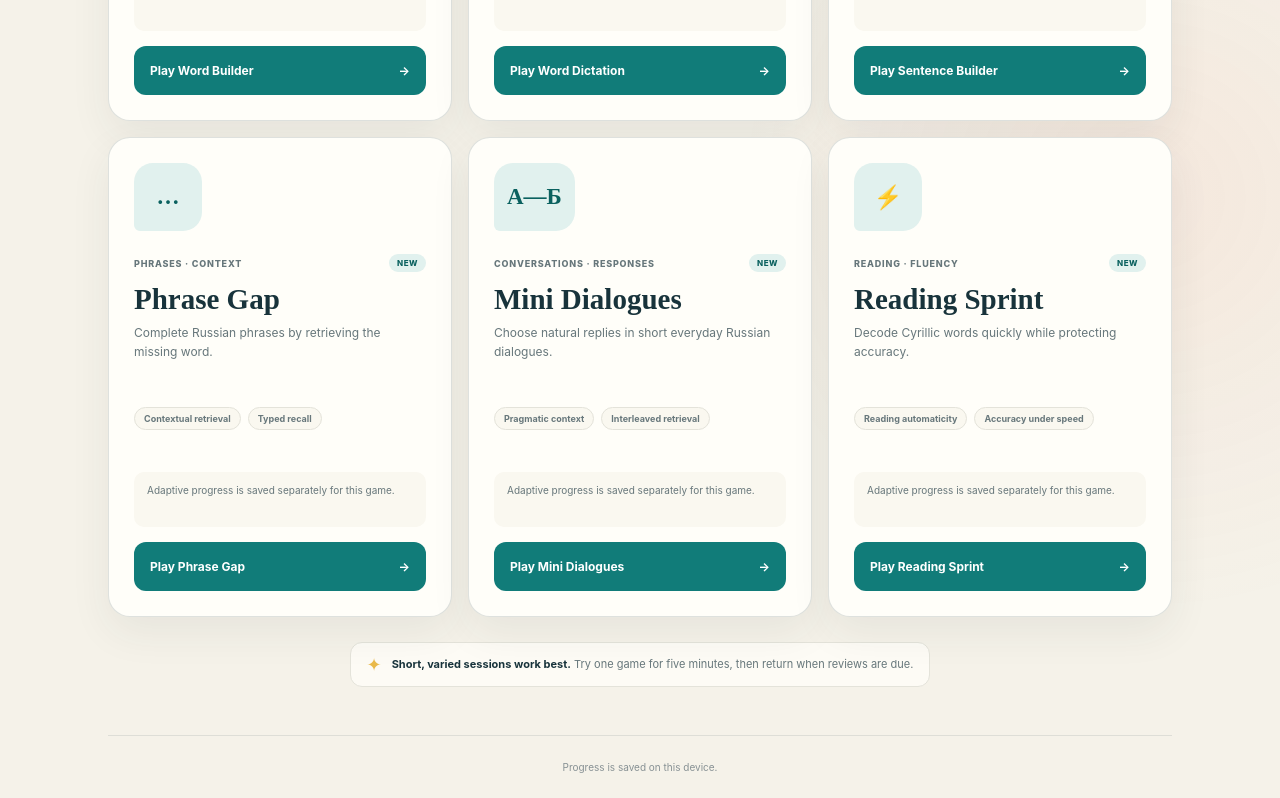
Test case: language games › opens and exits Mini Dialogues from the home screen
This screenshot has width=1280, height=798.
(page scrolled)
Click the button "Play Mini Dialogues →" at (581, 567), box x1=494 y1=542 x2=786 y2=591
(page scrolled)
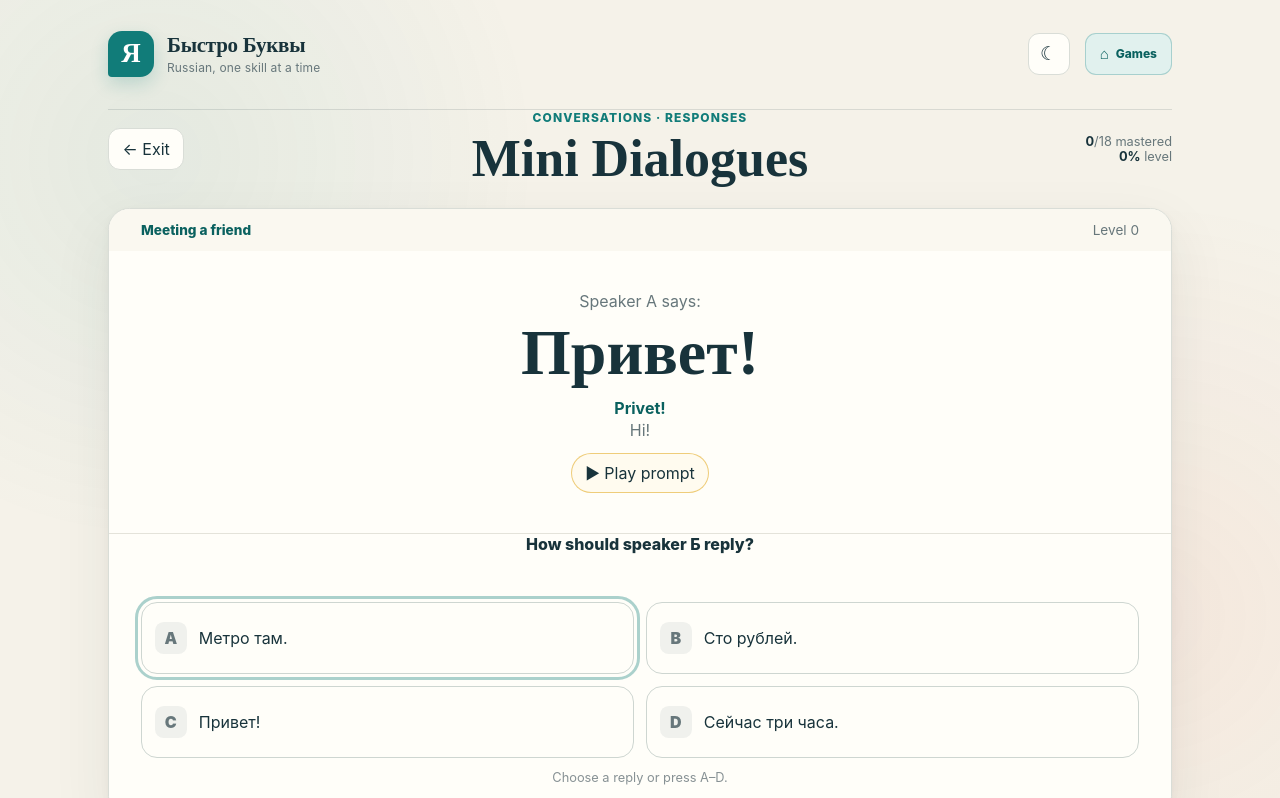
Expected: the heading "Mini Dialogues" is shown, x1=472 y1=129 x2=808 y2=188
Click the button named "Choose a game" at (1128, 54), box x1=1085 y1=32 x2=1172 y2=74
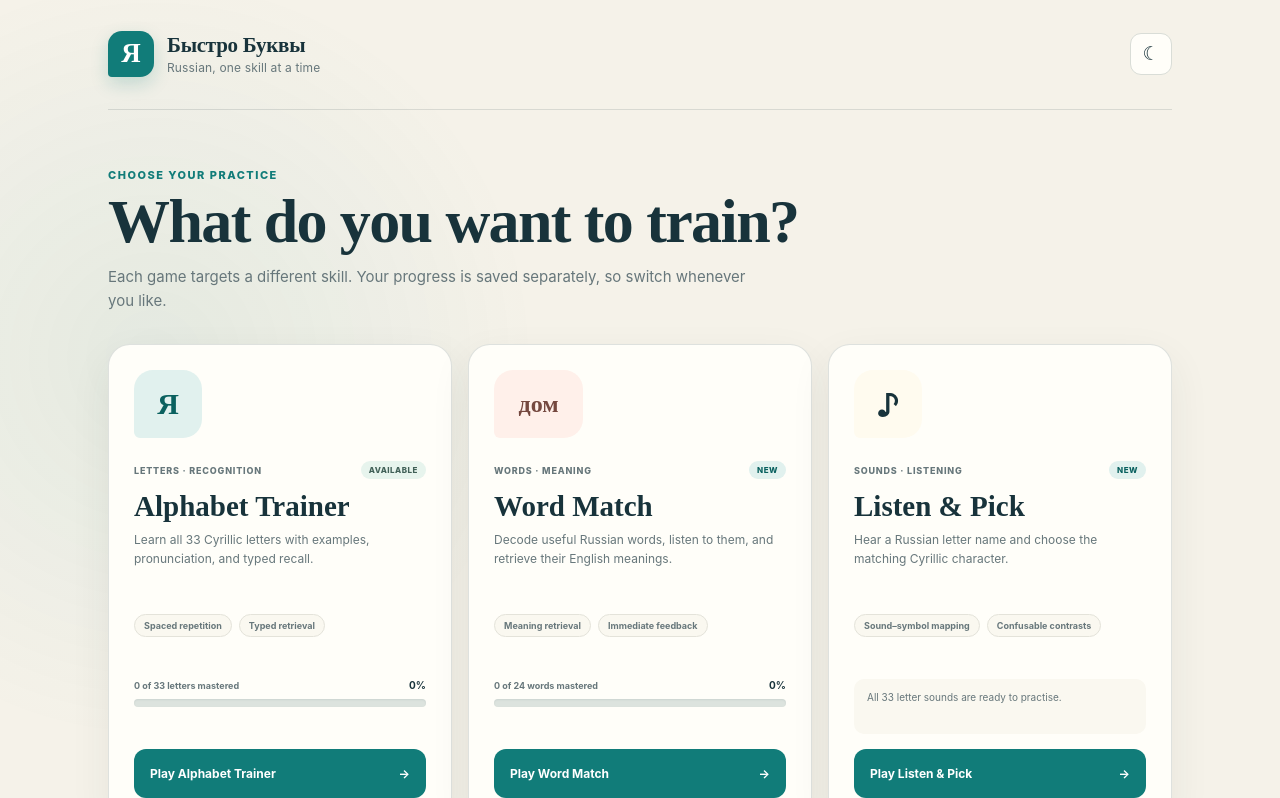
Expected: the heading "What do you want to train?" is shown, x1=108 y1=190 x2=828 y2=253
